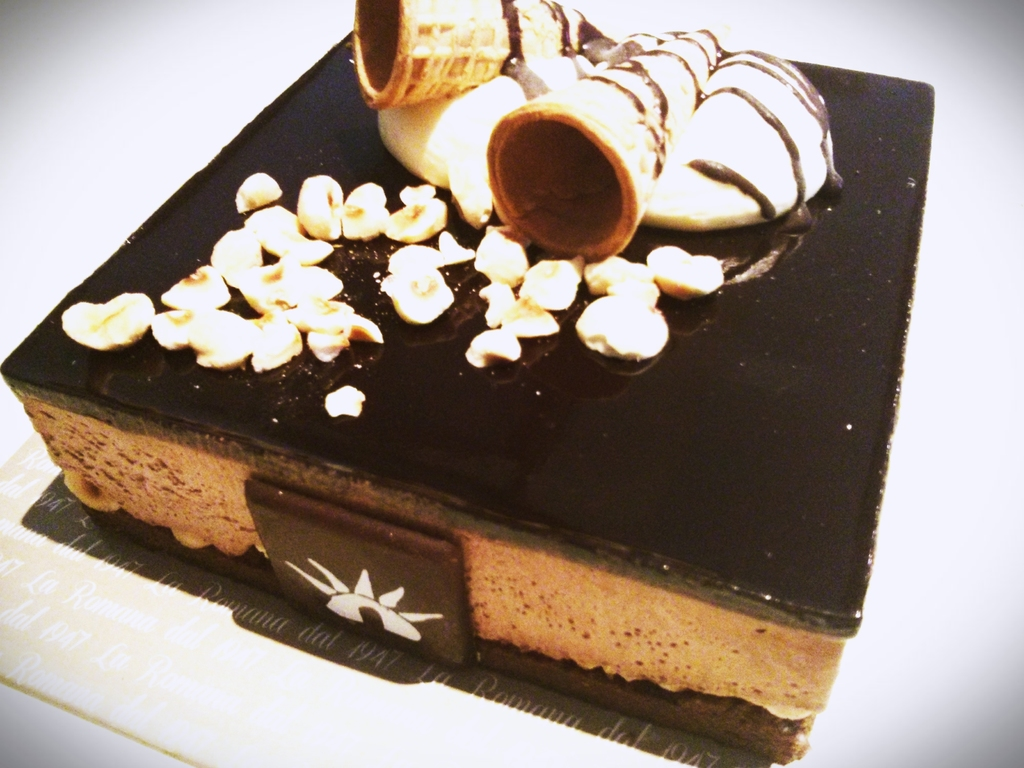cake: (0, 0, 936, 767)
